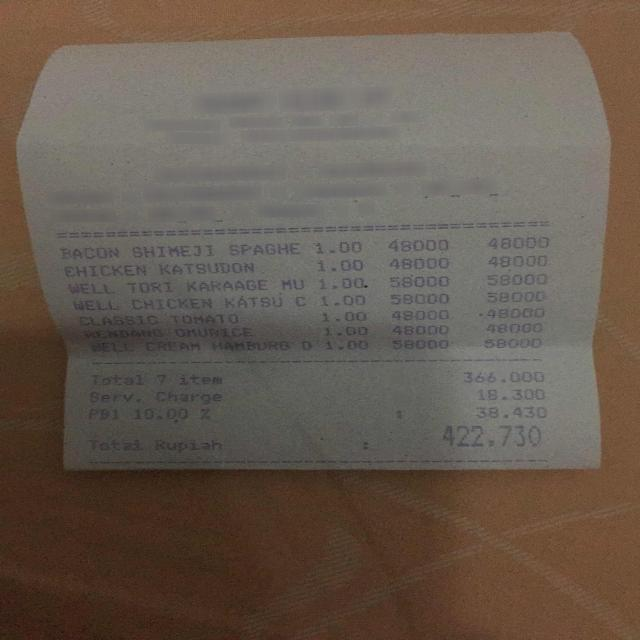kertas: (17, 34, 610, 470)
